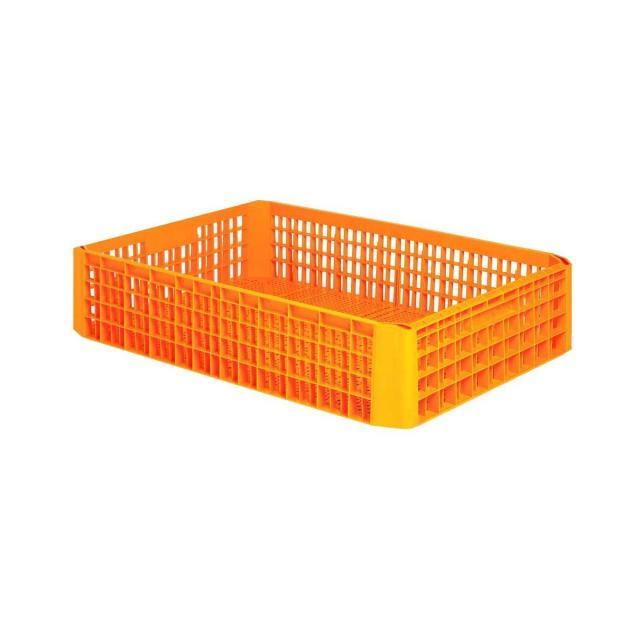basket: (53, 169, 588, 458)
